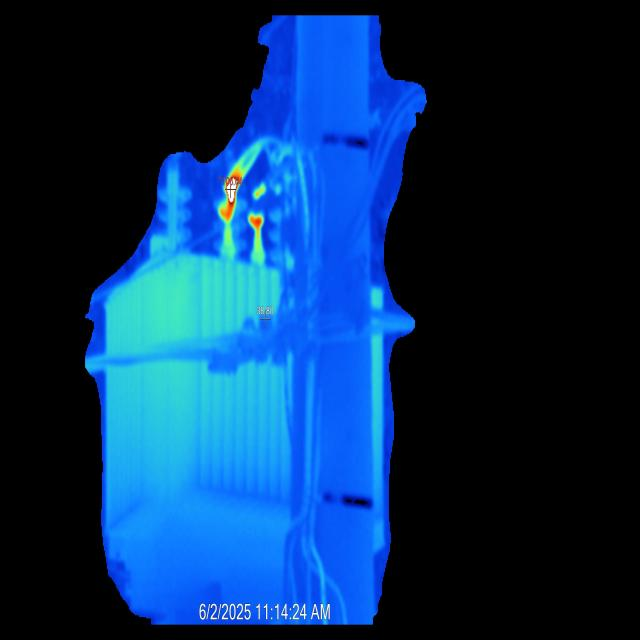Loose Joint F: (218, 169, 242, 222), (249, 214, 262, 239)
Point Overload F: (254, 183, 267, 198)
